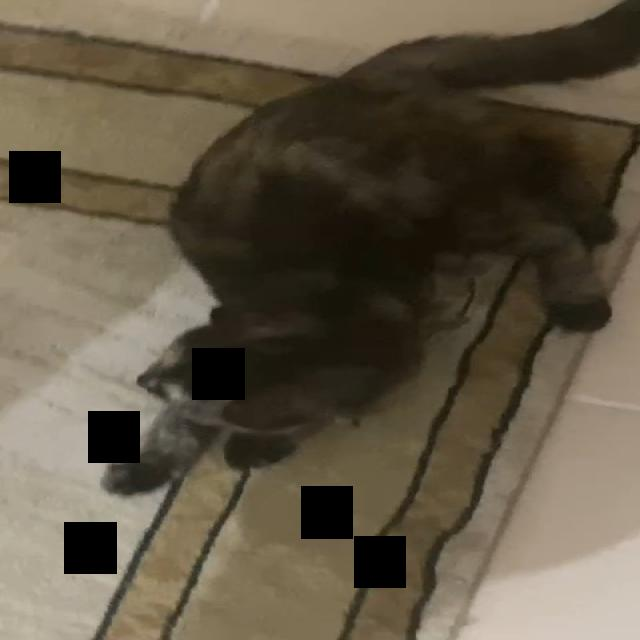authorized: (95, 0, 637, 638)
